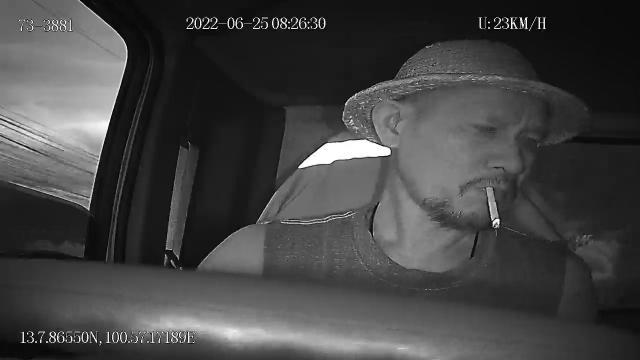Smoking: (486, 185, 500, 226)
